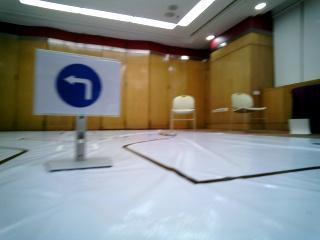left: (41, 56, 113, 114)
